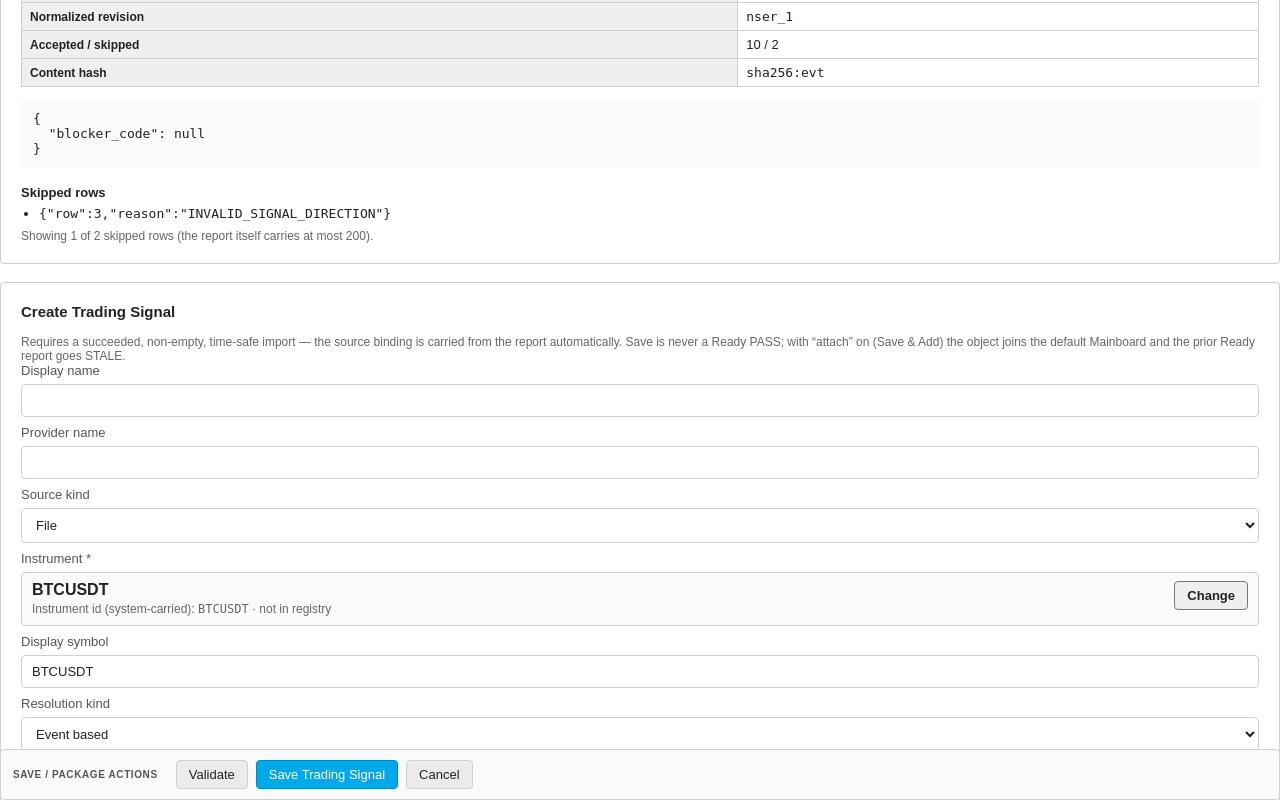
it: TradingSignal › saves the trading signal from the typed form with the report-seeded import binding and attach
(page scrolled)
Expected: the text "nser_1" is shown, [746,9,793,24]
In the field labelled "Display name": x=640, y=401 [21,384,1259,417], type "Provider signals"
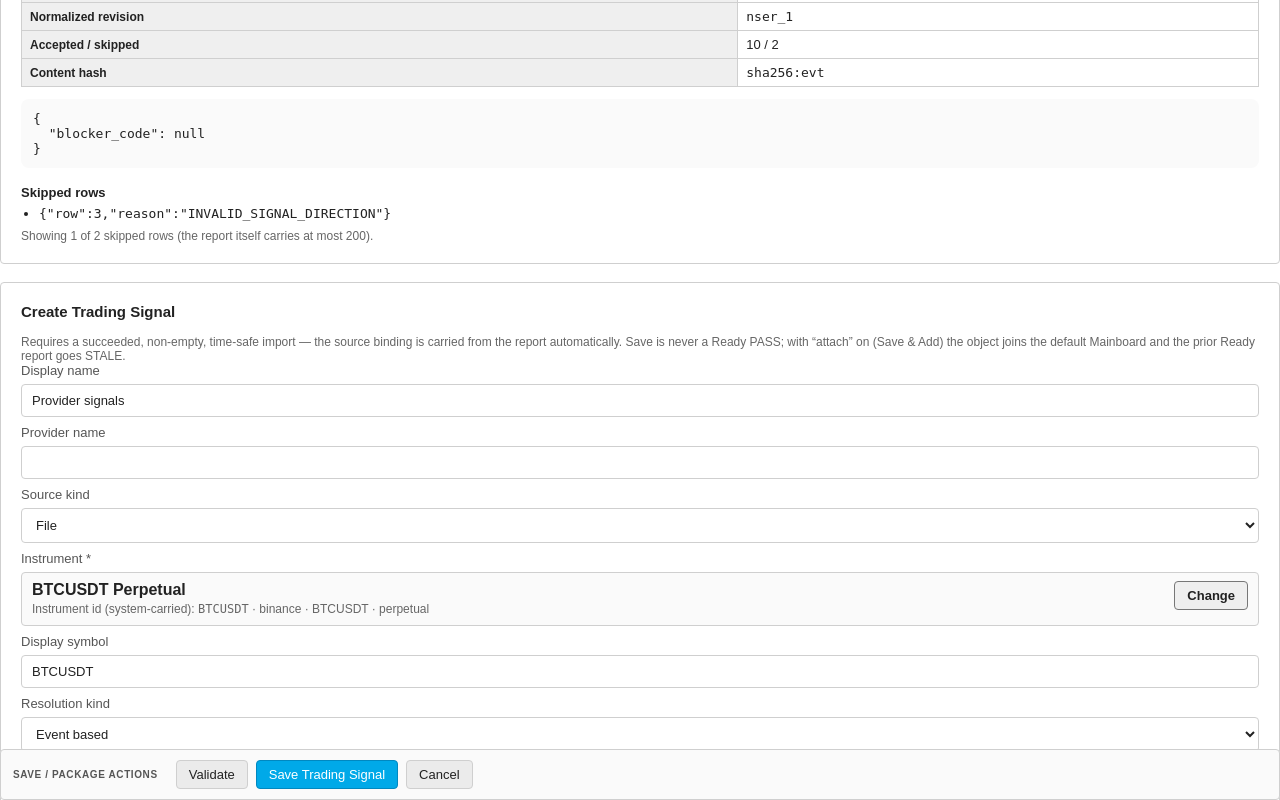
In the field labelled "Provider name": x=640, y=463 [21,446,1259,479], type "acme"
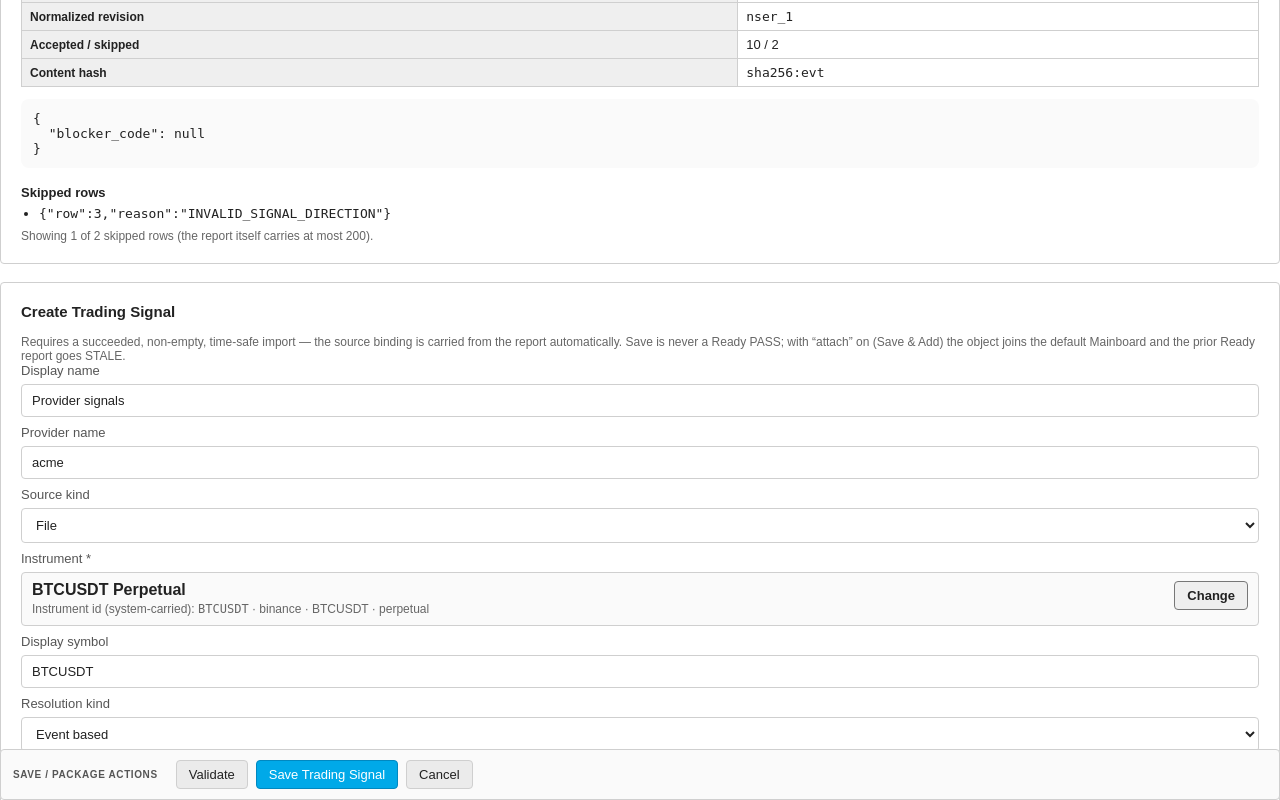
Click the button "Save Trading Signal": x=327, y=774 [256,760,398,789]
(page scrolled)
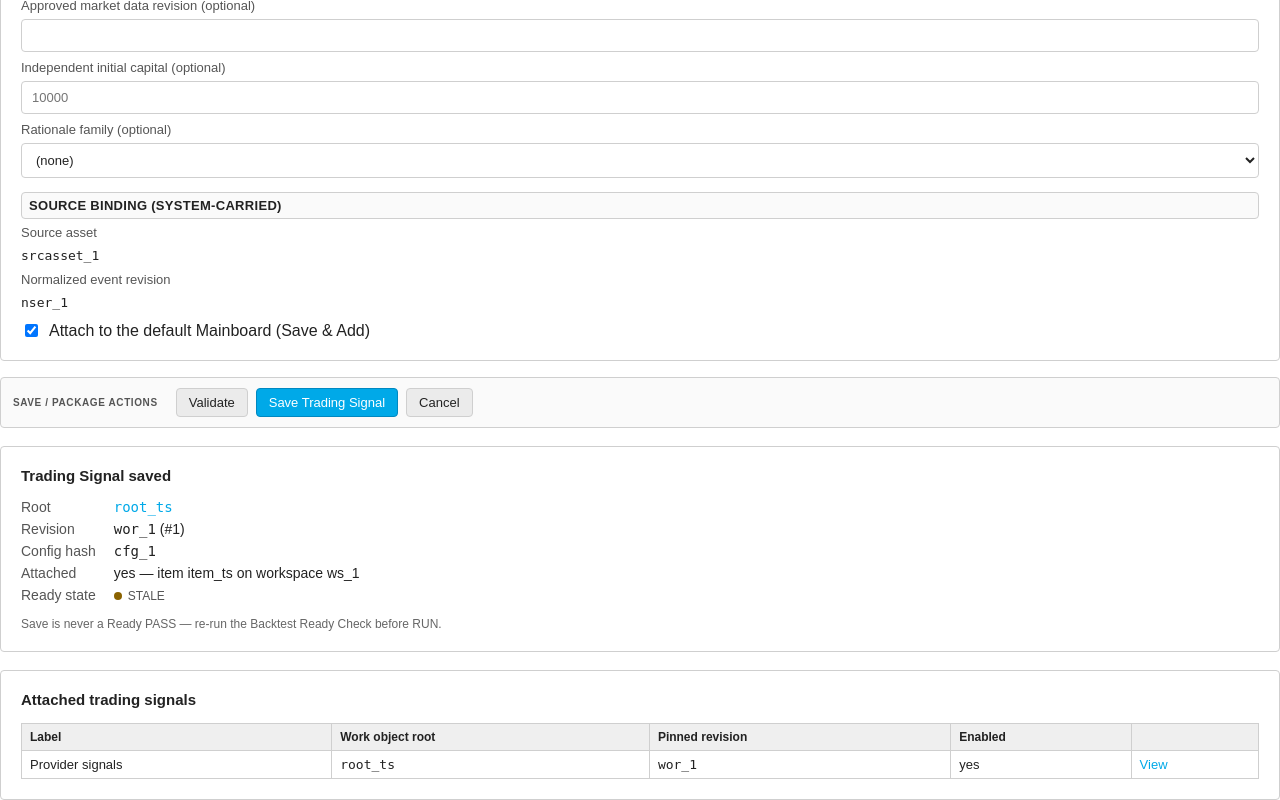
Expected: the heading "Trading Signal saved" is shown, [21,467,171,484]
Expected: the text "STALE" is shown, [114,589,165,603]
